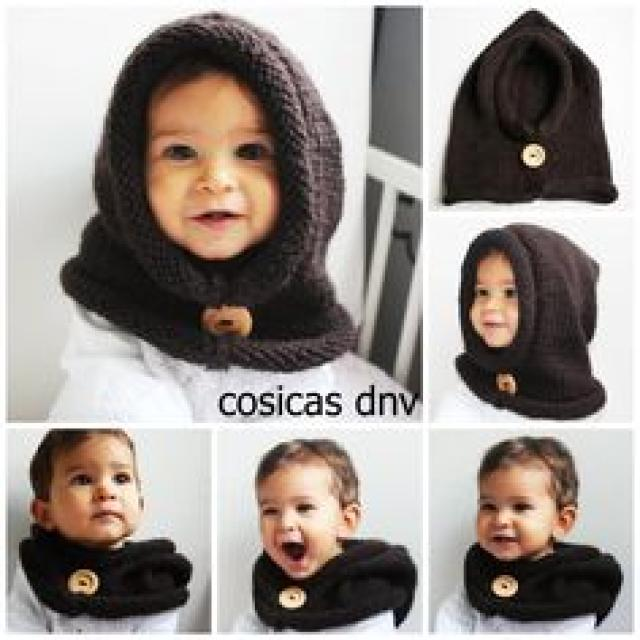4_capucha: (59, 10, 359, 351)
